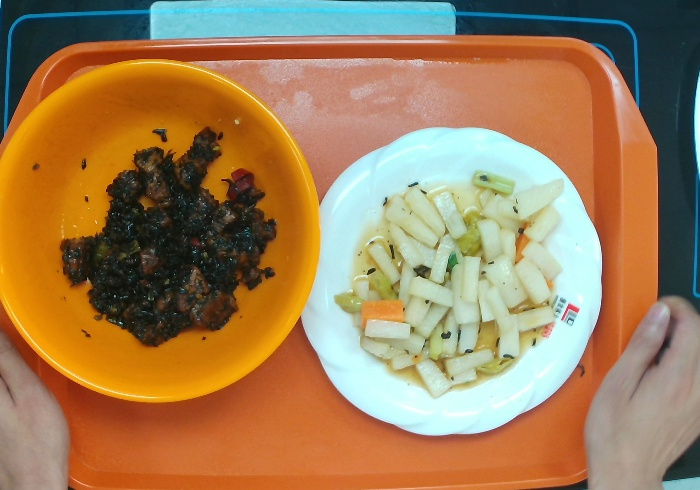ZNLD-Hua_Bian_Wan: (298, 124, 606, 438)
ZNLD-Ju_Se_Tang_Wan: (1, 53, 324, 406)
